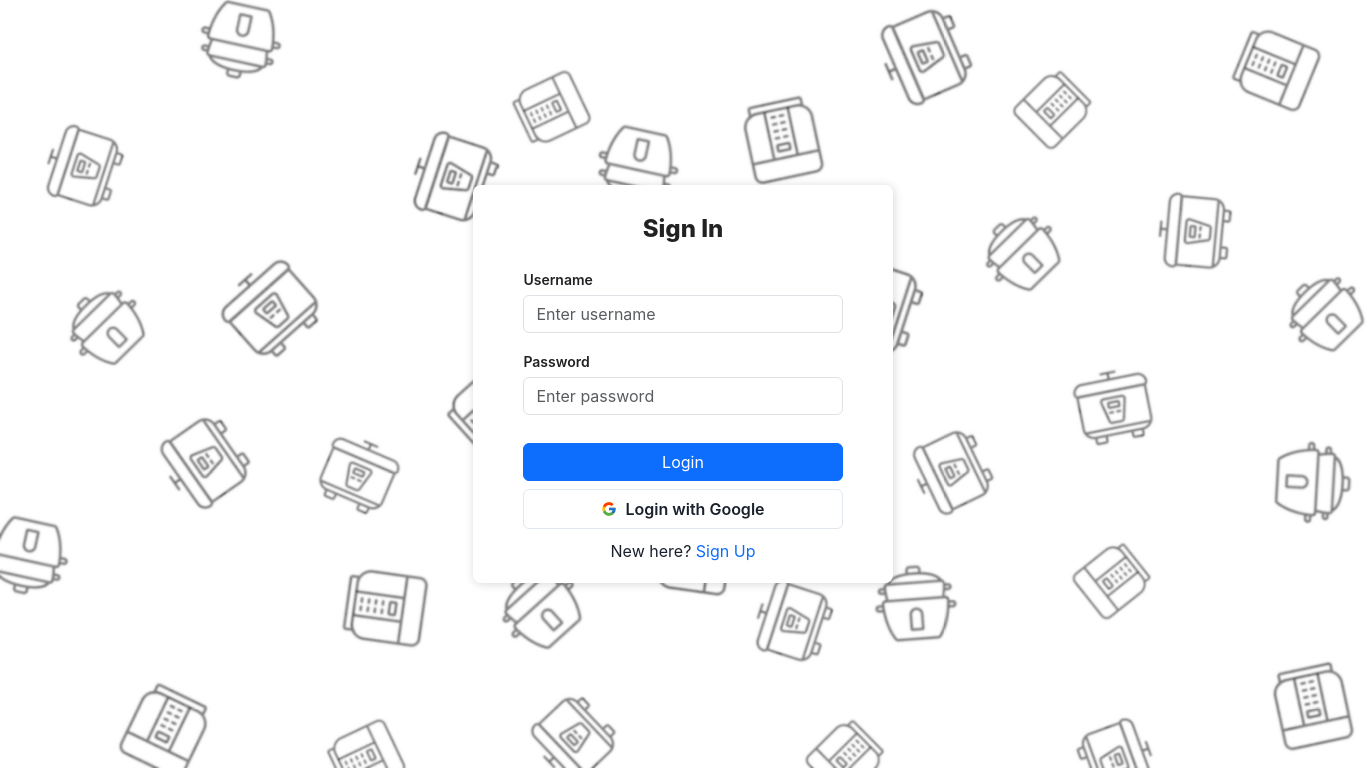
Test: LoginPage Tests › should not log in an invalid user (error state should be set)
The width and height of the screenshot is (1366, 768).
Type "Wrong name" into the field with placeholder "Enter username" at (683, 314), box x1=523 y1=295 x2=843 y2=333
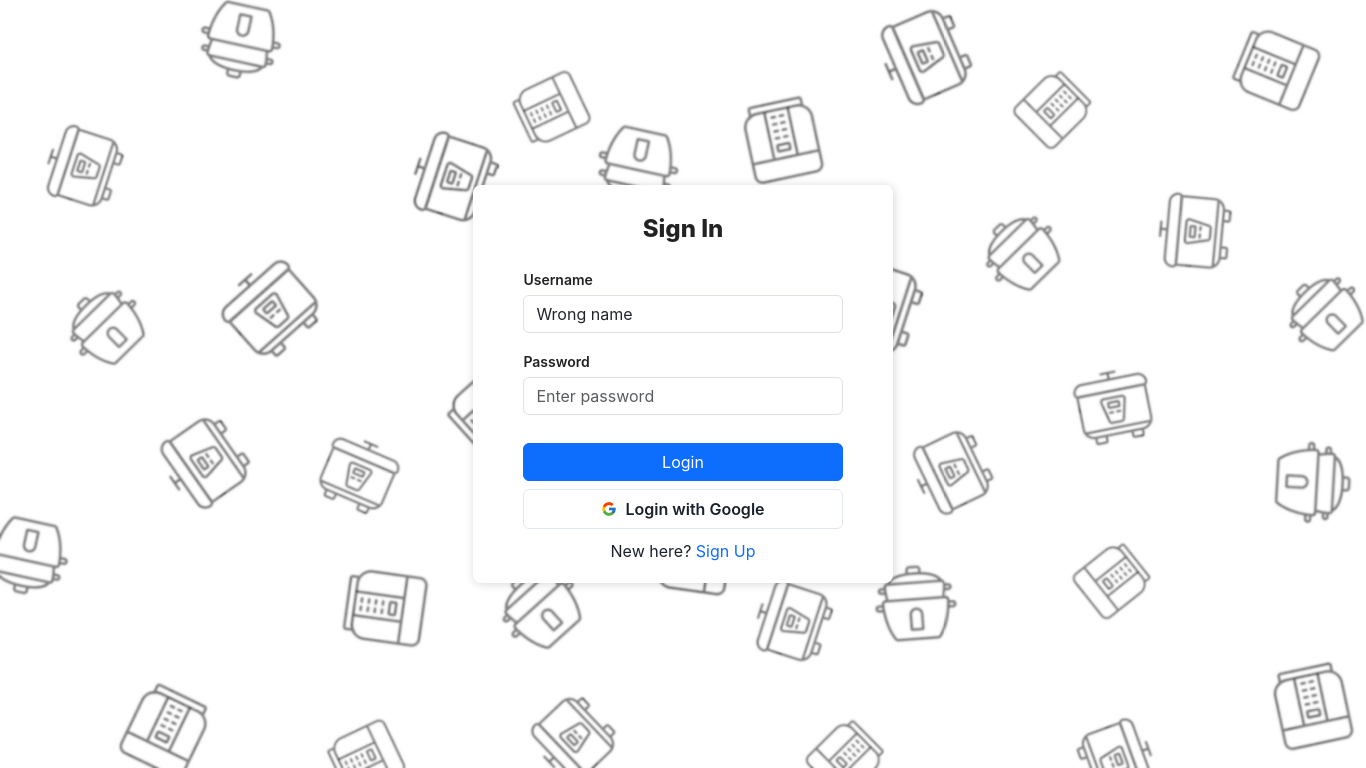
Type "Wrong Password" into the password field with placeholder "Enter password" at (683, 396), box x1=523 y1=377 x2=843 y2=415
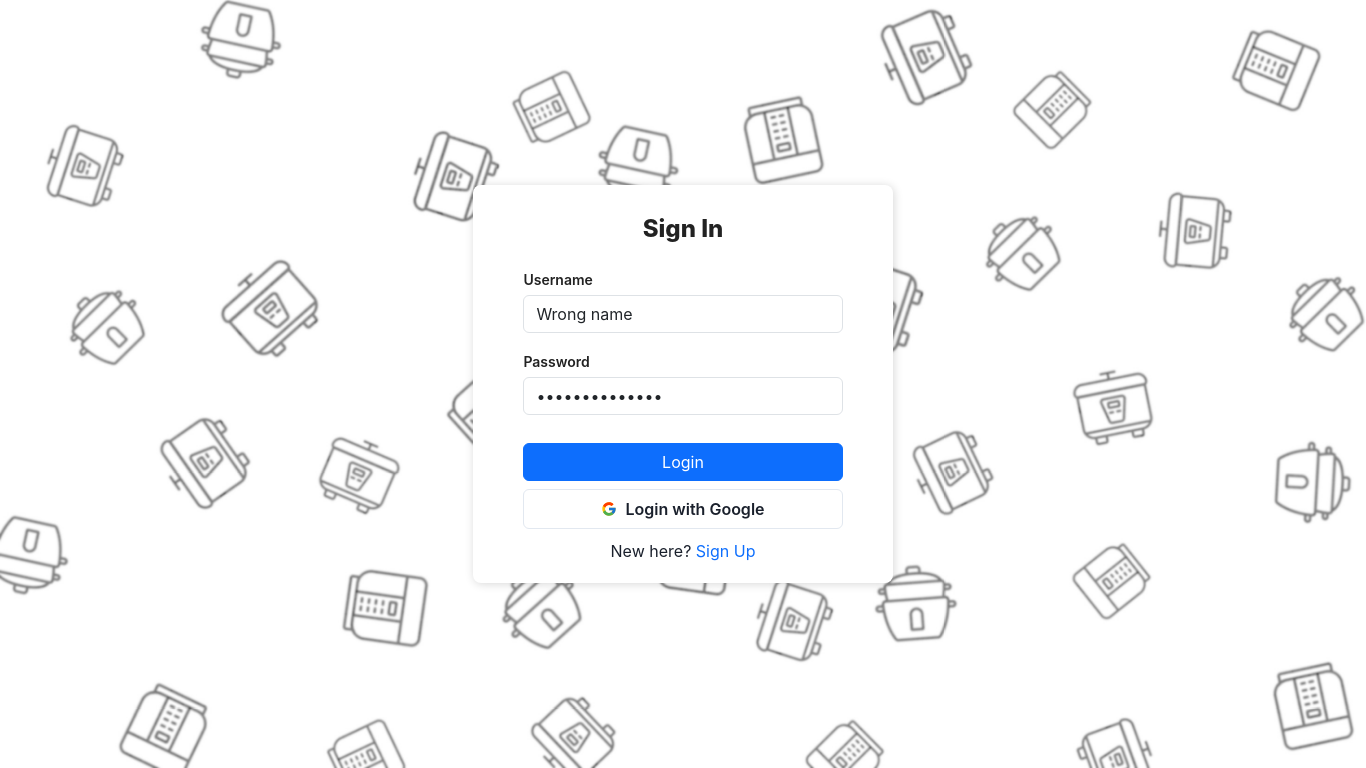
Click the button "Login" at (683, 462), box x1=523 y1=443 x2=843 y2=481
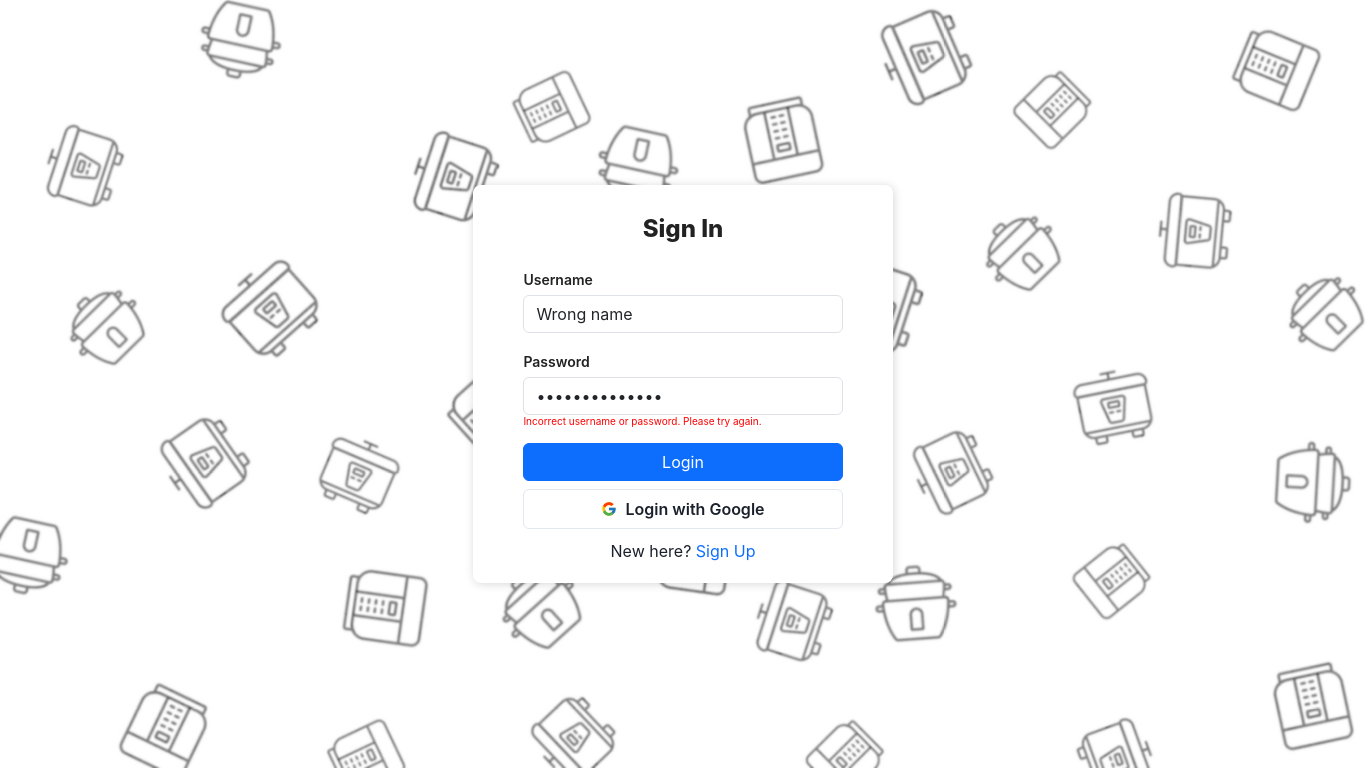
Expected: the text "Incorrect username or password. Please try again." is shown, x1=523 y1=414 x2=762 y2=429
